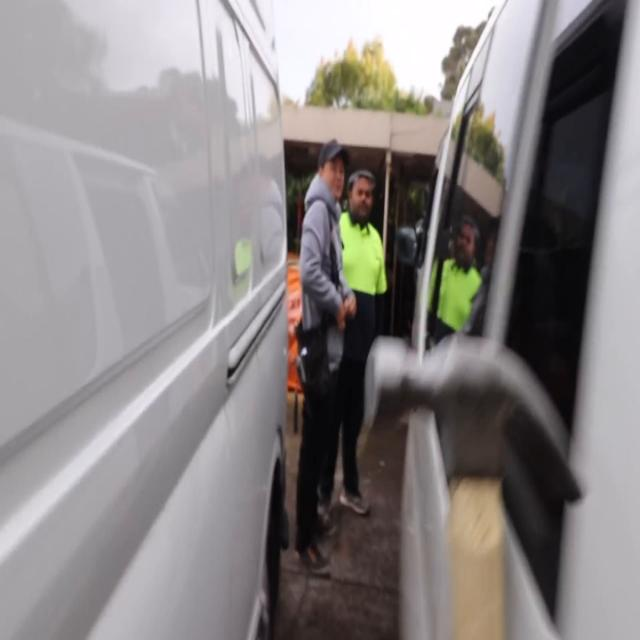hammer: (366, 335, 581, 640)
